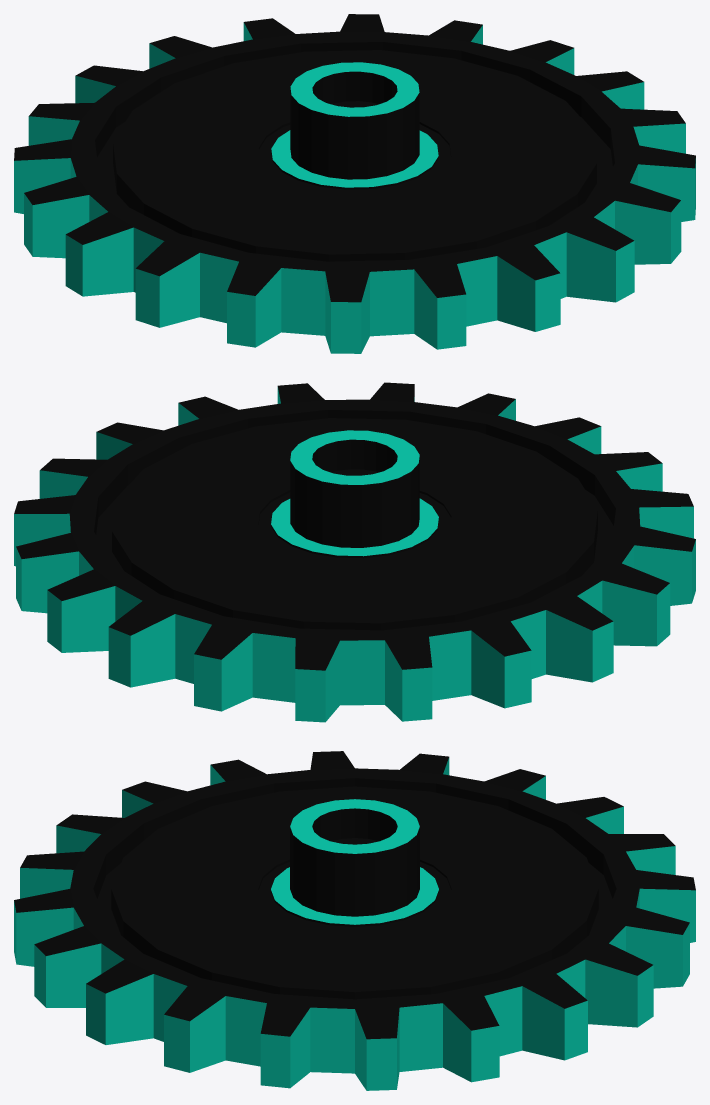
Rendered from D2GearV1.fbx.
The picture shows the model from 3 angles, top to bottom: view 1: azimuth 30°, elevation 25°; view 2: azimuth 150°, elevation 25°; view 3: azimuth 270°, elevation 25°; orthographic projection.
Visible parts, largest first — view 1: D2GearV1; view 2: D2GearV1; view 3: D2GearV1.
Part boxes in pixels (left/top/right/bottom): D2GearV1: left=14, top=14, right=695, bottom=353; D2GearV1: left=14, top=382, right=695, bottom=722; D2GearV1: left=14, top=751, right=695, bottom=1090.
Size of the model in its own units: 4.79 by 0.9819 by 4.79.
